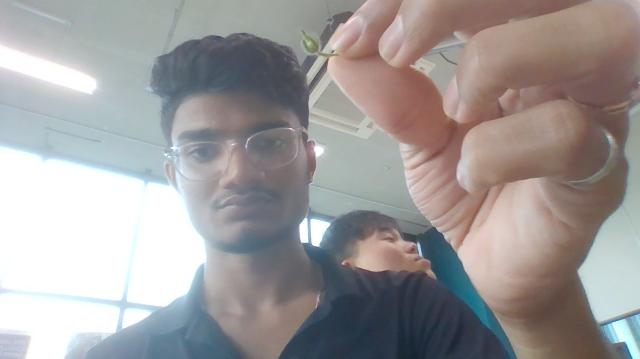Fruit Bud: (300, 29, 320, 55), (317, 49, 339, 59)
